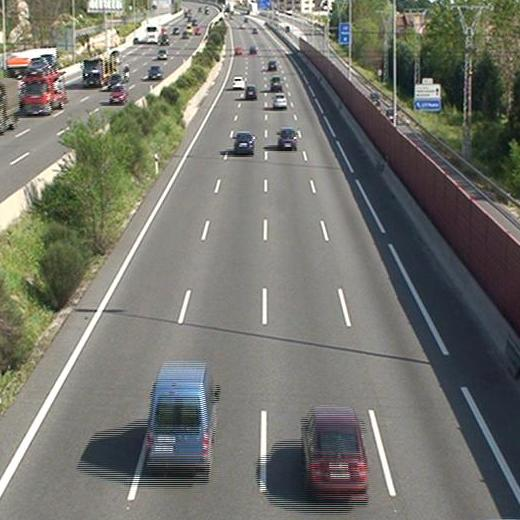car: (302, 406, 369, 497), (234, 132, 255, 153), (277, 129, 297, 149), (245, 85, 258, 100), (274, 94, 287, 108), (270, 77, 281, 91), (231, 77, 244, 88), (267, 60, 277, 69)
van: (146, 361, 214, 467)
